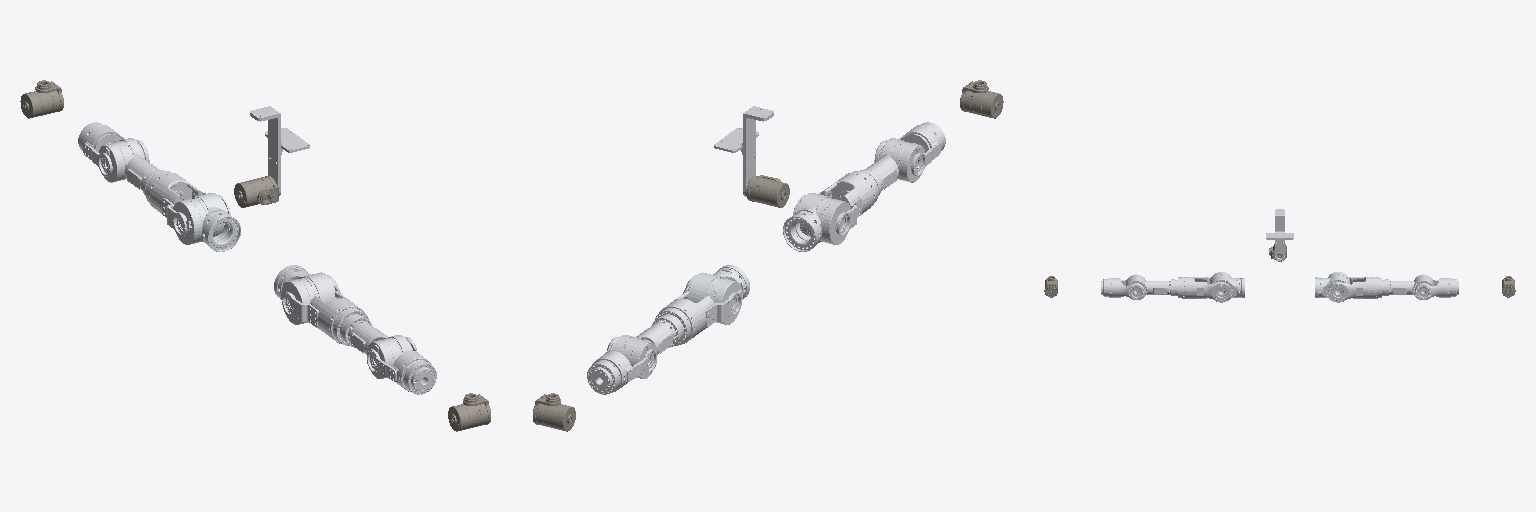
--- Render facts (derived) ---
3 views of the same robot in one strip: view 1: azimuth 30°, elevation 25°; view 2: azimuth 150°, elevation 25°; view 3: azimuth 270°, elevation 25° (orthographic).
Robot: arms_urdf — 18 links, 17 joints (17 revolute); root link PELVIS_S; default pose: every joint at zero.
Links seen in each view (by area): view 1: L_SHOULDER_P_S, R_SHOULDER_R_S, R_SHOULDER_Y_S, L_SHOULDER_Y_S, R_ELBOW_R_S, L_SHOULDER_R_S, R_SHOULDER_P_S, NECK_R_S, L_ELBOW_R_S, L_WRIST_Y_S, R_WRIST_Y_S, NECK_P_S; view 2: R_SHOULDER_P_S, L_SHOULDER_R_S, L_SHOULDER_Y_S, R_SHOULDER_Y_S, L_ELBOW_R_S, R_SHOULDER_R_S, L_SHOULDER_P_S, NECK_R_S, R_ELBOW_R_S, R_WRIST_Y_S, L_WRIST_Y_S, NECK_P_S; view 3: R_SHOULDER_R_S, L_SHOULDER_R_S, L_SHOULDER_Y_S, R_SHOULDER_Y_S, L_ELBOW_R_S, R_ELBOW_R_S, NECK_R_S, L_SHOULDER_P_S, R_SHOULDER_P_S.
Boxes of the visible links, x1,y1,x2,y2 form: L_SHOULDER_P_S: (173,193,240,251); R_SHOULDER_R_S: (282,275,368,345); R_SHOULDER_Y_S: (342,316,412,378); L_SHOULDER_Y_S: (99,138,163,195); R_ELBOW_R_S: (367,337,436,394); L_SHOULDER_R_S: (145,171,230,235); R_SHOULDER_P_S: (274,265,336,324); NECK_R_S: (250,106,309,195); L_ELBOW_R_S: (78,122,149,176); L_WRIST_Y_S: (20,80,63,118); R_WRIST_Y_S: (448,393,490,431); NECK_P_S: (234,175,278,207); R_SHOULDER_P_S: (783,193,850,251); L_SHOULDER_R_S: (655,275,741,345); L_SHOULDER_Y_S: (611,316,681,378); R_SHOULDER_Y_S: (860,138,924,195); L_ELBOW_R_S: (587,337,656,394); R_SHOULDER_R_S: (793,171,878,235); L_SHOULDER_P_S: (687,265,749,324); NECK_R_S: (714,106,773,196); R_ELBOW_R_S: (874,122,945,176); R_WRIST_Y_S: (960,80,1003,118); L_WRIST_Y_S: (533,393,575,431); NECK_P_S: (746,175,789,207); R_SHOULDER_R_S: (1175,277,1231,301); L_SHOULDER_R_S: (1328,277,1384,301); L_SHOULDER_Y_S: (1385,274,1433,299); R_SHOULDER_Y_S: (1126,274,1174,299); L_ELBOW_R_S: (1415,278,1458,299); R_ELBOW_R_S: (1101,278,1144,299); NECK_R_S: (1266,209,1293,261); L_SHOULDER_P_S: (1315,272,1349,302); R_SHOULDER_P_S: (1210,272,1244,302).
Bounding box of the posed robot: 0.1175 × 1.38 × 0.2865 m (x, y, z).
12 mesh visuals loaded from 18 distinct referenced files (12 binary STL); not drawn: 6 (reference not matched to a file when rendering).

URDF robot description (arms_urdf):
<?xml version="1.0" encoding="utf-8"?>
<!-- This URDF was automatically created by SolidWorks to URDF Exporter! Originally created by Stephen Brawner ([email redacted]) 
     Commit Version: 1.6.0-4-g7f85cfe  Build Version: 1.6.7995.38578
     For more information, please see http://wiki.ros.org/sw_urdf_exporter -->
<robot
  name="arms_urdf">
  <link
    name="PELVIS_S">
    <inertial>
      <origin
        xyz="3.78529087037144E-05 3.81781425684836E-07 0.0386396273530852"
        rpy="0 0 0" />
      <mass
        value="2.10624590271277" />
      <inertia
        ixx="0.00165706865324979"
        ixy="3.13663044821662E-09"
        ixz="6.84209533216046E-07"
        iyy="0.00136736758630241"
        iyz="-1.01014607878816E-10"
        izz="0.00168295663089359" />
    </inertial>
    <visual>
      <origin
        xyz="0 0 0"
        rpy="0 0 0" />
      <geometry>
        <mesh
          filename="package://arms_urdf/meshes/PELVIS_S.STL" />
      </geometry>
      <material
        name="">
        <color
          rgba="0.698039215686274 0.698039215686274 0.698039215686274 1" />
      </material>
    </visual>
    <collision>
      <origin
        xyz="0 0 0"
        rpy="0 0 0" />
      <geometry>
        <mesh
          filename="package://arms_urdf/meshes/PELVIS_S.STL" />
      </geometry>
    </collision>
  </link>
  <link
    name="L_SHOULDER_P_S">
    <inertial>
      <origin
        xyz="-0.00982258725282134 0.0704593083751867 1.15261874861217E-06"
        rpy="0 0 0" />
      <mass
        value="0.880737519698403" />
      <inertia
        ixx="0.000583190308378148"
        ixy="-1.53153074560473E-05"
        ixz="6.58466471754072E-09"
        iyy="0.000445532440067177"
        iyz="6.37001404038516E-09"
        izz="0.000465648071069952" />
    </inertial>
    <visual>
      <origin
        xyz="0 0 0"
        rpy="0 0 0" />
      <geometry>
        <mesh
          filename="package://arms_urdf/meshes/L_SHOULDER_P_S.STL" />
      </geometry>
      <material
        name="">
        <color
          rgba="0.898039215686275 0.917647058823529 0.929411764705882 1" />
      </material>
    </visual>
    <collision>
      <origin
        xyz="0 0 0"
        rpy="0 0 0" />
      <geometry>
        <mesh
          filename="package://arms_urdf/meshes/L_SHOULDER_P_S.STL" />
      </geometry>
    </collision>
  </link>
  <joint
    name="L_SHOULDER_P"
    type="revolute">
    <origin
      xyz="0 0.0945 0.042"
      rpy="0 0 0" />
    <parent
      link="PELVIS_S" />
    <child
      link="L_SHOULDER_P_S" />
    <axis
      xyz="0 1 0" />
    <limit
      lower="-1.57"
      upper="1.57"
      effort="0"
      velocity="0" />
  </joint>
  <link
    name="L_SHOULDER_R_S">
    <inertial>
      <origin
        xyz="-0.0346025282975857 0.091739327988169 -1.67085072999562E-08"
        rpy="0 0 0" />
      <mass
        value="0.594788424442483" />
      <inertia
        ixx="0.000380970396712656"
        ixy="4.80751844573946E-05"
        ixz="-1.34913746586865E-11"
        iyy="0.000320962178597474"
        iyz="-1.00039763442409E-09"
        izz="0.000414771047901155" />
    </inertial>
    <visual>
      <origin
        xyz="0 0 0"
        rpy="0 0 0" />
      <geometry>
        <mesh
          filename="package://arms_urdf/meshes/L_SHOULDER_R_S.STL" />
      </geometry>
      <material
        name="">
        <color
          rgba="0.890196078431372 0.890196078431372 0.913725490196078 1" />
      </material>
    </visual>
    <collision>
      <origin
        xyz="0 0 0"
        rpy="0 0 0" />
      <geometry>
        <mesh
          filename="package://arms_urdf/meshes/L_SHOULDER_R_S.STL" />
      </geometry>
    </collision>
  </link>
  <joint
    name="L_SHOULDER_R"
    type="revolute">
    <origin
      xyz="0.035 0.0765 0"
      rpy="0 0 0" />
    <parent
      link="L_SHOULDER_P_S" />
    <child
      link="L_SHOULDER_R_S" />
    <axis
      xyz="1 0 0" />
    <limit
      lower="-2"
      upper="2"
      effort="0"
      velocity="0" />
  </joint>
  <link
    name="L_SHOULDER_Y_S">
    <inertial>
      <origin
        xyz="-0.00440976862014801 0.0863620459174068 9.50748668682166E-09"
        rpy="0 0 0" />
      <mass
        value="0.563406026626801" />
      <inertia
        ixx="0.000327003834287552"
        ixy="-1.8057438966771E-05"
        ixz="7.28778136267901E-10"
        iyy="0.000213830709361531"
        iyz="1.49273668517817E-10"
        izz="0.000297341029639189" />
    </inertial>
    <visual>
      <origin
        xyz="0 0 0"
        rpy="0 0 0" />
      <geometry>
        <mesh
          filename="package://arms_urdf/meshes/L_SHOULDER_Y_S.STL" />
      </geometry>
      <material
        name="">
        <color
          rgba="0.890196078431372 0.890196078431372 0.913725490196078 1" />
      </material>
    </visual>
    <collision>
      <origin
        xyz="0 0 0"
        rpy="0 0 0" />
      <geometry>
        <mesh
          filename="package://arms_urdf/meshes/L_SHOULDER_Y_S.STL" />
      </geometry>
    </collision>
  </link>
  <joint
    name="L_SHOULDER_Y"
    type="revolute">
    <origin
      xyz="-0.035 0.1475 0"
      rpy="0 0 0" />
    <parent
      link="L_SHOULDER_R_S" />
    <child
      link="L_SHOULDER_Y_S" />
    <axis
      xyz="0 -1 0" />
    <limit
      lower="-1.57"
      upper="1.57"
      effort="0"
      velocity="0" />
  </joint>
  <link
    name="L_ELBOW_R_S">
    <inertial>
      <origin
        xyz="-0.0335624237303443 0.0603199964106564 2.99655911639718E-07"
        rpy="0 0 0" />
      <mass
        value="0.393571904406493" />
      <inertia
        ixx="0.00017277119386253"
        ixy="2.34549801867355E-05"
        ixz="-1.90560556659271E-09"
        iyy="0.000155340245267897"
        iyz="8.82493073600007E-09"
        izz="0.00018104232734159" />
    </inertial>
    <visual>
      <origin
        xyz="0 0 0"
        rpy="0 0 0" />
      <geometry>
        <mesh
          filename="package://arms_urdf/meshes/L_ELBOW_R_S.STL" />
      </geometry>
      <material
        name="">
        <color
          rgba="0.890196078431372 0.890196078431372 0.913725490196078 1" />
      </material>
    </visual>
    <collision>
      <origin
        xyz="0 0 0"
        rpy="0 0 0" />
      <geometry>
        <mesh
          filename="package://arms_urdf/meshes/L_ELBOW_R_S.STL" />
      </geometry>
    </collision>
  </link>
  <joint
    name="L_ELBOW_R"
    type="revolute">
    <origin
      xyz="0.034 0.1025 0"
      rpy="0 0 0" />
    <parent
      link="L_SHOULDER_Y_S" />
    <child
      link="L_ELBOW_R_S" />
    <axis
      xyz="1 0 0" />
    <limit
      lower="-1.57"
      upper="1.57"
      effort="0"
      velocity="0" />
  </joint>
  <link
    name="L_WRIST_P_S">
    <inertial>
      <origin
        xyz="-1.39659173115092E-10 0.0675972604744393 0.019200551565574"
        rpy="0 0 0" />
      <mass
        value="0.442332465815496" />
      <inertia
        ixx="0.000476754055455895"
        ixy="-4.61505824713347E-15"
        ixz="6.03808112272229E-18"
        iyy="0.000103466585850499"
        iyz="-4.88426705501198E-05"
        izz="0.000482956345754213" />
    </inertial>
    <visual>
      <origin
        xyz="0 0 0"
        rpy="0 0 0" />
      <geometry>
        <mesh
          filename="package://arms_urdf/meshes/L_WRIST_P_S.STL" />
      </geometry>
      <material
        name="">
        <color
          rgba="0.698039215686274 0.698039215686274 0.698039215686274 1" />
      </material>
    </visual>
    <collision>
      <origin
        xyz="0 0 0"
        rpy="0 0 0" />
      <geometry>
        <mesh
          filename="package://arms_urdf/meshes/L_WRIST_P_S.STL" />
      </geometry>
    </collision>
  </link>
  <joint
    name="L_WRIST_P"
    type="revolute">
    <origin
      xyz="-0.034 0.0965 0"
      rpy="0 0 0" />
    <parent
      link="L_ELBOW_R_S" />
    <child
      link="L_WRIST_P_S" />
    <axis
      xyz="0 1 0" />
    <limit
      lower="-1.57"
      upper="1.57"
      effort="0"
      velocity="0" />
  </joint>
  <link
    name="L_WRIST_Y_S">
    <inertial>
      <origin
        xyz="-0.00464135887331864 -5.06426789392833E-10 -0.0341253783666609"
        rpy="0 0 0" />
      <mass
        value="0.23573847772002" />
      <inertia
        ixx="5.10686940455785E-05"
        ixy="7.45706654358429E-16"
        ixz="6.2619568923368E-06"
        iyy="6.00636019624519E-05"
        iyz="1.27989654155383E-16"
        izz="5.32182903609189E-05" />
    </inertial>
    <visual>
      <origin
        xyz="0 0 0"
        rpy="0 0 0" />
      <geometry>
        <mesh
          filename="package://arms_urdf/meshes/L_WRIST_Y_S.STL" />
      </geometry>
      <material
        name="">
        <color
          rgba="0.647058823529412 0.619607843137255 0.588235294117647 1" />
      </material>
    </visual>
    <collision>
      <origin
        xyz="0 0 0"
        rpy="0 0 0" />
      <geometry>
        <mesh
          filename="package://arms_urdf/meshes/L_WRIST_Y_S.STL" />
      </geometry>
    </collision>
  </link>
  <joint
    name="L_WRIST_Y"
    type="revolute">
    <origin
      xyz="0 0.1525 0.039"
      rpy="0 0 0" />
    <parent
      link="L_WRIST_P_S" />
    <child
      link="L_WRIST_Y_S" />
    <axis
      xyz="0 0 1" />
    <limit
      lower="-0.26"
      upper="0.26"
      effort="0"
      velocity="0" />
  </joint>
  <link
    name="L_WRIST_R_S">
    <inertial>
      <origin
        xyz="-0.0161477357620243 0.0955046558857351 -0.00499392489444117"
        rpy="0 0 0" />
      <mass
        value="0.504894112043562" />
      <inertia
        ixx="0.000186833711781125"
        ixy="-3.99488705622731E-06"
        ixz="-1.51920720398336E-06"
        iyy="0.000179960980467837"
        iyz="3.6992669535716E-06"
        izz="0.000280756101568308" />
    </inertial>
    <visual>
      <origin
        xyz="0 0 0"
        rpy="0 0 0" />
      <geometry>
        <mesh
          filename="package://arms_urdf/meshes/L_WRIST_R_S.STL" />
      </geometry>
      <material
        name="">
        <color
          rgba="0.890196078431372 0.890196078431372 0.913725490196078 1" />
      </material>
    </visual>
    <collision>
      <origin
        xyz="0 0 0"
        rpy="0 0 0" />
      <geometry>
        <mesh
          filename="package://arms_urdf/meshes/L_WRIST_R_S.STL" />
      </geometry>
    </collision>
  </link>
  <joint
    name="L_WRIST_R"
    type="revolute">
    <origin
      xyz="0.0258 0 -0.039"
      rpy="0 0 0" />
    <parent
      link="L_WRIST_Y_S" />
    <child
      link="L_WRIST_R_S" />
    <axis
      xyz="1 0 0" />
    <limit
      lower="-0.26"
      upper="0.26"
      effort="0"
      velocity="0" />
  </joint>
  <link
    name="R_SHOULDER_P_S">
    <inertial>
      <origin
        xyz="-0.00982258725282141 -0.0704593093873431 -1.15069920925137E-06"
        rpy="0 0 0" />
      <mass
        value="0.880737519698404" />
      <inertia
        ixx="0.000583190308378149"
        ixy="1.53153074560471E-05"
        ixz="-6.58466471736542E-09"
        iyy="0.000445532440067178"
        iyz="6.37001403998779E-09"
        izz="0.000465648071069953" />
    </inertial>
    <visual>
      <origin
        xyz="0 0 0"
        rpy="0 0 0" />
      <geometry>
        <mesh
          filename="package://arms_urdf/meshes/R_SHOULDER_P_S.STL" />
      </geometry>
      <material
        name="">
        <color
          rgba="0.890196078431372 0.890196078431372 0.913725490196078 1" />
      </material>
    </visual>
    <collision>
      <origin
        xyz="0 0 0"
        rpy="0 0 0" />
      <geometry>
        <mesh
          filename="package://arms_urdf/meshes/R_SHOULDER_P_S.STL" />
      </geometry>
    </collision>
  </link>
  <joint
    name="R_SHOULDER_P"
    type="revolute">
    <origin
      xyz="0 -0.0945 0.042"
      rpy="0 0 0" />
    <parent
      link="PELVIS_S" />
    <child
      link="R_SHOULDER_P_S" />
    <axis
      xyz="0 -1 0" />
    <limit
      lower="-1.57"
      upper="1.57"
      effort="0"
      velocity="0" />
  </joint>
  <link
    name="R_SHOULDER_R_S">
    <inertial>
      <origin
        xyz="-0.0346025282975784 -0.09173932900033 1.86280643132974E-08"
        rpy="0 0 0" />
      <mass
        value="0.59478842444248" />
      <inertia
        ixx="0.000380970396712653"
        ixy="-4.80751844573946E-05"
        ixz="1.34913746041655E-11"
        iyy="0.000320962178597472"
        iyz="-1.00039763417375E-09"
        izz="0.000414771047901152" />
    </inertial>
    <visual>
      <origin
        xyz="0 0 0"
        rpy="0 0 0" />
      <geometry>
        <mesh
          filename="package://arms_urdf/meshes/R_SHOULDER_R_S.STL" />
      </geometry>
      <material
        name="">
        <color
          rgba="0.890196078431372 0.890196078431372 0.913725490196078 1" />
      </material>
    </visual>
    <collision>
      <origin
        xyz="0 0 0"
        rpy="0 0 0" />
      <geometry>
        <mesh
          filename="package://arms_urdf/meshes/R_SHOULDER_R_S.STL" />
      </geometry>
    </collision>
  </link>
  <joint
    name="R_SHOULDER_R"
    type="revolute">
    <origin
      xyz="0.035 -0.0765 0"
      rpy="0 0 0" />
    <parent
      link="R_SHOULDER_P_S" />
    <child
      link="R_SHOULDER_R_S" />
    <axis
      xyz="1 0 0" />
    <limit
      lower="-2"
      upper="2"
      effort="0"
      velocity="0" />
  </joint>
  <link
    name="R_SHOULDER_Y_S">
    <inertial>
      <origin
        xyz="-0.00440976862014946 -0.0863620469295699 -7.58791862676134E-09"
        rpy="0 0 0" />
      <mass
        value="0.563406026626801" />
      <inertia
        ixx="0.000327003834287551"
        ixy="1.80574389667711E-05"
        ixz="-7.28778136077729E-10"
        iyy="0.000213830709361532"
        iyz="1.49273668428957E-10"
        izz="0.000297341029639189" />
    </inertial>
    <visual>
      <origin
        xyz="0 0 0"
        rpy="0 0 0" />
      <geometry>
        <mesh
          filename="package://arms_urdf/meshes/R_SHOULDER_Y_S.STL" />
      </geometry>
      <material
        name="">
        <color
          rgba="0.890196078431372 0.890196078431372 0.913725490196078 1" />
      </material>
    </visual>
    <collision>
      <origin
        xyz="0 0 0"
        rpy="0 0 0" />
      <geometry>
        <mesh
          filename="package://arms_urdf/meshes/R_SHOULDER_Y_S.STL" />
      </geometry>
    </collision>
  </link>
  <joint
    name="R_SHOULDER_Y"
    type="revolute">
    <origin
      xyz="-0.035 -0.1475 0"
      rpy="0 0 0" />
    <parent
      link="R_SHOULDER_R_S" />
    <child
      link="R_SHOULDER_Y_S" />
    <axis
      xyz="0 -1 0" />
    <limit
      lower="-1.57"
      upper="1.57"
      effort="0"
      velocity="0" />
  </joint>
  <link
    name="R_ELBOW_R_S">
    <inertial>
      <origin
        xyz="-0.0335624237303424 -0.0603199974228191 -2.97736340082455E-07"
        rpy="0 0 0" />
      <mass
        value="0.393571904406492" />
      <inertia
        ixx="0.000172771193862529"
        ixy="-2.34549801867353E-05"
        ixz="1.90560556668771E-09"
        iyy="0.000155340245267897"
        iyz="8.82493073602971E-09"
        izz="0.00018104232734159" />
    </inertial>
    <visual>
      <origin
        xyz="0 0 0"
        rpy="0 0 0" />
      <geometry>
        <mesh
          filename="package://arms_urdf/meshes/R_ELBOW_R_S.STL" />
      </geometry>
      <material
        name="">
        <color
          rgba="0.890196078431372 0.890196078431372 0.913725490196078 1" />
      </material>
    </visual>
    <collision>
      <origin
        xyz="0 0 0"
        rpy="0 0 0" />
      <geometry>
        <mesh
          filename="package://arms_urdf/meshes/R_ELBOW_R_S.STL" />
      </geometry>
    </collision>
  </link>
  <joint
    name="R_ELBOW_R"
    type="revolute">
    <origin
      xyz="0.034 -0.1025 0"
      rpy="0 0 0" />
    <parent
      link="R_SHOULDER_Y_S" />
    <child
      link="R_ELBOW_R_S" />
    <axis
      xyz="1 0 0" />
    <limit
      lower="-1.57"
      upper="1.57"
      effort="0"
      velocity="0" />
  </joint>
  <link
    name="R_WRIST_P_S">
    <inertial>
      <origin
        xyz="-1.39656577968772E-10 -0.0675972614865965 0.0192005515655728"
        rpy="0 0 0" />
      <mass
        value="0.442332465815497" />
      <inertia
        ixx="0.000476754055455896"
        ixy="-4.61462558956188E-15"
        ixz="-5.91762926004267E-18"
        iyy="0.0001034665858505"
        iyz="4.88426705501212E-05"
        izz="0.000482956345754214" />
    </inertial>
    <visual>
      <origin
        xyz="0 0 0"
        rpy="0 0 0" />
      <geometry>
        <mesh
          filename="package://arms_urdf/meshes/R_WRIST_P_S.STL" />
      </geometry>
      <material
        name="">
        <color
          rgba="0.647058823529412 0.619607843137255 0.588235294117647 1" />
      </material>
    </visual>
    <collision>
      <origin
        xyz="0 0 0"
        rpy="0 0 0" />
      <geometry>
        <mesh
          filename="package://arms_urdf/meshes/R_WRIST_P_S.STL" />
      </geometry>
    </collision>
  </link>
  <joint
    name="R_WRIST_P"
    type="revolute">
    <origin
      xyz="-0.034 -0.0965 0"
      rpy="0 0 0" />
    <parent
      link="R_ELBOW_R_S" />
    <child
      link="R_WRIST_P_S" />
    <axis
      xyz="0 -1 0" />
    <limit
      lower="-1.57"
      upper="1.57"
      effort="0"
      velocity="0" />
  </joint>
  <link
    name="R_WRIST_Y_S">
    <inertial>
      <origin
        xyz="-0.00464135887330083 -5.06426456325926E-10 -0.0341253783666614"
        rpy="0 0 0" />
      <mass
        value="0.235738477720019" />
      <inertia
        ixx="5.1068694045578E-05"
        ixy="7.45771487459288E-16"
        ixz="6.26195689233664E-06"
        iyy="6.00636019624515E-05"
        iyz="1.27828046342987E-16"
        izz="5.32182903609188E-05" />
    </inertial>
    <visual>
      <origin
        xyz="0 0 0"
        rpy="0 0 0" />
      <geometry>
        <mesh
          filename="package://arms_urdf/meshes/R_WRIST_Y_S.STL" />
      </geometry>
      <material
        name="">
        <color
          rgba="0.647058823529412 0.619607843137255 0.588235294117647 1" />
      </material>
    </visual>
    <collision>
      <origin
        xyz="0 0 0"
        rpy="0 0 0" />
      <geometry>
        <mesh
          filename="package://arms_urdf/meshes/R_WRIST_Y_S.STL" />
      </geometry>
    </collision>
  </link>
  <joint
    name="R_WRIST_Y"
    type="revolute">
    <origin
      xyz="0 -0.1525 0.039"
      rpy="0 0 0" />
    <parent
      link="R_WRIST_P_S" />
    <child
      link="R_WRIST_Y_S" />
    <axis
      xyz="0 0 1" />
    <limit
      lower="-0.26"
      upper="0.26"
      effort="0"
      velocity="0" />
  </joint>
  <link
    name="R_WRIST_R_S">
    <inertial>
      <origin
        xyz="-0.0201642233698132 -0.11074968386657 -0.00598955339232021"
        rpy="0 0 0" />
      <mass
        value="0.504366058218534" />
      <inertia
        ixx="0.000185559065855467"
        ixy="5.75889766751509E-06"
        ixz="2.40683898454438E-06"
        iyy="0.000131246007872084"
        iyz="1.60533277040148E-06"
        izz="0.000271800951396149" />
    </inertial>
    <visual>
      <origin
        xyz="0 0 0"
        rpy="0 0 0" />
      <geometry>
        <mesh
          filename="package://arms_urdf/meshes/R_WRIST_R_S.STL" />
      </geometry>
      <material
        name="">
        <color
          rgba="0.890196078431372 0.890196078431372 0.913725490196078 1" />
      </material>
    </visual>
    <collision>
      <origin
        xyz="0 0 0"
        rpy="0 0 0" />
      <geometry>
        <mesh
          filename="package://arms_urdf/meshes/R_WRIST_R_S.STL" />
      </geometry>
    </collision>
  </link>
  <joint
    name="R_WRIST_R"
    type="revolute">
    <origin
      xyz="0.03 0 -0.039"
      rpy="0 0 0" />
    <parent
      link="R_WRIST_Y_S" />
    <child
      link="R_WRIST_R_S" />
    <axis
      xyz="1 0 0" />
    <limit
      lower="-0.26"
      upper="0.26"
      effort="0"
      velocity="0" />
  </joint>
  <link
    name="NECK_Y_S">
    <inertial>
      <origin
        xyz="-1.39656133879562E-10 -0.0133808572523805 0.0389743111428658"
        rpy="0 0 0" />
      <mass
        value="0.33484134740204" />
      <inertia
        ixx="0.000143241680081903"
        ixy="-2.7009653785963E-17"
        ixz="-4.42987262066023E-15"
        iyy="0.000135911554571992"
        iyz="2.24025194595277E-05"
        izz="9.3245126120205E-05" />
    </inertial>
    <visual>
      <origin
        xyz="0 0 0"
        rpy="0 0 0" />
      <geometry>
        <mesh
          filename="package://arms_urdf/meshes/NECK_Y_S.STL" />
      </geometry>
      <material
        name="">
        <color
          rgba="0.752941176470588 0.752941176470588 0.752941176470588 1" />
      </material>
    </visual>
    <collision>
      <origin
        xyz="0 0 0"
        rpy="0 0 0" />
      <geometry>
        <mesh
          filename="package://arms_urdf/meshes/NECK_Y_S.STL" />
      </geometry>
    </collision>
  </link>
  <joint
    name="NECK_Y"
    type="revolute">
    <origin
      xyz="0 0 0.076"
      rpy="0 0 0" />
    <parent
      link="PELVIS_S" />
    <child
      link="NECK_Y_S" />
    <axis
      xyz="0 0 1" />
    <limit
      lower="-1.57"
      upper="1.57"
      effort="0"
      velocity="0" />
  </joint>
  <link
    name="NECK_P_S">
    <inertial>
      <origin
        xyz="-0.00464135887329584 0.0341253788203513 9.59426205149327E-10"
        rpy="0 0 0" />
      <mass
        value="0.235738477720019" />
      <inertia
        ixx="5.10686940455782E-05"
        ixy="-6.2619568923367E-06"
        ixz="7.45735823371855E-16"
        iyy="5.32182903609189E-05"
        iyz="-1.27929537756251E-16"
        izz="6.00636019624517E-05" />
    </inertial>
    <visual>
      <origin
        xyz="0 0 0"
        rpy="0 0 0" />
      <geometry>
        <mesh
          filename="package://arms_urdf/meshes/NECK_P_S.STL" />
      </geometry>
      <material
        name="">
        <color
          rgba="0.647058823529412 0.619607843137255 0.588235294117647 1" />
      </material>
    </visual>
    <collision>
      <origin
        xyz="0 0 0"
        rpy="0 0 0" />
      <geometry>
        <mesh
          filename="package://arms_urdf/meshes/NECK_P_S.STL" />
      </geometry>
    </collision>
  </link>
  <joint
    name="NECK_P"
    type="revolute">
    <origin
      xyz="0 -0.039 0.082"
      rpy="0 0 0" />
    <parent
      link="NECK_Y_S" />
    <child
      link="NECK_P_S" />
    <axis
      xyz="0 -1 0" />
    <limit
      lower="-0.26"
      upper="0.26"
      effort="0"
      velocity="0" />
  </joint>
  <link
    name="NECK_R_S">
    <inertial>
      <origin
        xyz="0.0084413982842801 7.12093303776681E-06 0.0758572519004315"
        rpy="0 0 0" />
      <mass
        value="0.129428752938967" />
      <inertia
        ixx="0.000219779914815882"
        ixy="-3.32353511854463E-08"
        ixz="1.92675042718927E-05"
        iyy="0.000224183907177299"
        iyz="-1.31581631166055E-10"
        izz="5.65464655782449E-05" />
    </inertial>
    <visual>
      <origin
        xyz="0 0 0"
        rpy="0 0 0" />
      <geometry>
        <mesh
          filename="package://arms_urdf/meshes/NECK_R_S.STL" />
      </geometry>
      <material
        name="">
        <color
          rgba="0.866666666666667 0.866666666666667 0.890196078431372 1" />
      </material>
    </visual>
    <collision>
      <origin
        xyz="0 0 0"
        rpy="0 0 0" />
      <geometry>
        <mesh
          filename="package://arms_urdf/meshes/NECK_R_S.STL" />
      </geometry>
    </collision>
  </link>
  <joint
    name="NECK_R"
    type="revolute">
    <origin
      xyz="0.026 0.039 0"
      rpy="0 0 0" />
    <parent
      link="NECK_P_S" />
    <child
      link="NECK_R_S" />
    <axis
      xyz="1 0 0" />
    <limit
      lower="-0.26"
      upper="0.26"
      effort="0"
      velocity="0" />
  </joint>
</robot>
